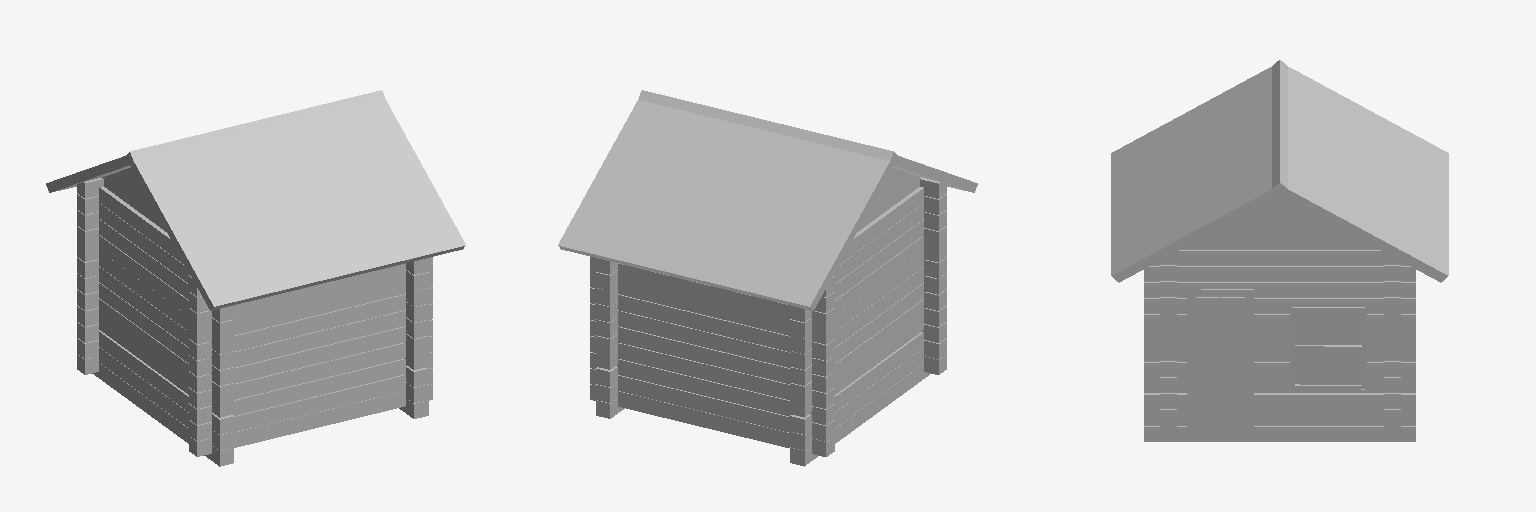
Rendered from Cabin (1).obj.
3 renders of one model, left to right at view 1: azimuth 30°, elevation 25°; view 2: azimuth 150°, elevation 25°; view 3: azimuth 270°, elevation 25°, orthographic.
Visible parts, largest first — view 1: Box049, Box014, Box019, Box030, Box007, Box016, Box023, Box003, Box032, Box035, Box010, Box004 (+11 smaller); view 2: Box049, Box013, Box018, Box029, Box006, Box015, Box022, Box002, Box034, Box031, Box010, Box004 (+11 smaller); view 3: Box049, PivotDoor001, AwningWindow001, Plane001, Box041, Box043, Box037, Box001, Box009, Box005, Box033, Box011 (+4 smaller).
Boxes of the visible parts, x1,y1,x2,y2 form: Box049: [46, 90, 465, 310]; Box014: [189, 352, 432, 424]; Box019: [189, 320, 432, 392]; Box030: [189, 287, 432, 360]; Box007: [189, 368, 432, 440]; Box016: [189, 336, 432, 408]; Box023: [189, 303, 432, 376]; Box003: [189, 384, 432, 456]; Box032: [189, 272, 432, 344]; Box035: [189, 257, 432, 328]; Box010: [99, 331, 233, 434]; Box004: [92, 363, 233, 466]; Box049: [558, 90, 977, 310]; Box013: [590, 352, 834, 425]; Box018: [590, 320, 834, 392]; Box029: [590, 288, 834, 360]; Box006: [590, 368, 834, 441]; Box015: [590, 336, 834, 408]; Box022: [590, 304, 834, 376]; Box002: [590, 384, 834, 456]; Box034: [590, 257, 834, 329]; Box031: [590, 272, 834, 344]; Box010: [790, 332, 923, 434]; Box004: [790, 364, 930, 466]; Box049: [1111, 60, 1448, 282]; PivotDoor001: [1187, 289, 1253, 435]; AwningWindow001: [1290, 307, 1366, 390]; Plane001: [1181, 196, 1378, 249]; Box041: [1144, 266, 1415, 281]; Box043: [1151, 250, 1408, 265]; Box037: [1144, 282, 1415, 297]; Box001: [1144, 426, 1415, 441]; Box009: [1144, 393, 1415, 410]; Box005: [1144, 411, 1415, 425]; Box033: [1144, 298, 1415, 313]; Box011: [1144, 378, 1415, 392].
Size of the model in its own units: 337 by 345 by 390.